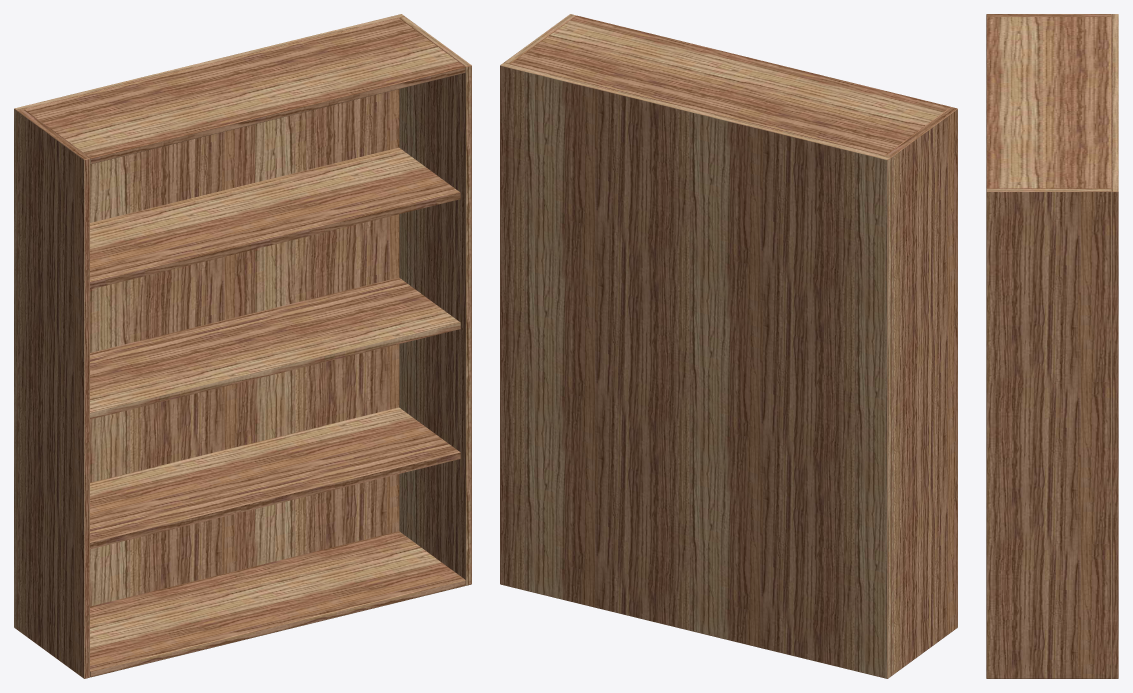
File: shelf_cabinet_4OH120_FINAL.fbx
The picture shows the model from 3 angles, left to right: view 1: azimuth 30°, elevation 25°; view 2: azimuth 150°, elevation 25°; view 3: azimuth 270°, elevation 25°; orthographic projection. The views are drawn at different scales.
Visible parts, largest first — view 1: test:polySurface1; view 2: test:polySurface1; view 3: test:polySurface1.
Part boxes in pixels (<box>): test:polySurface1: <box>14,14,471,678</box>; test:polySurface1: <box>500,14,957,678</box>; test:polySurface1: <box>986,14,1118,678</box>.
Size of the model in its own units: 120 by 154 by 37.7.
